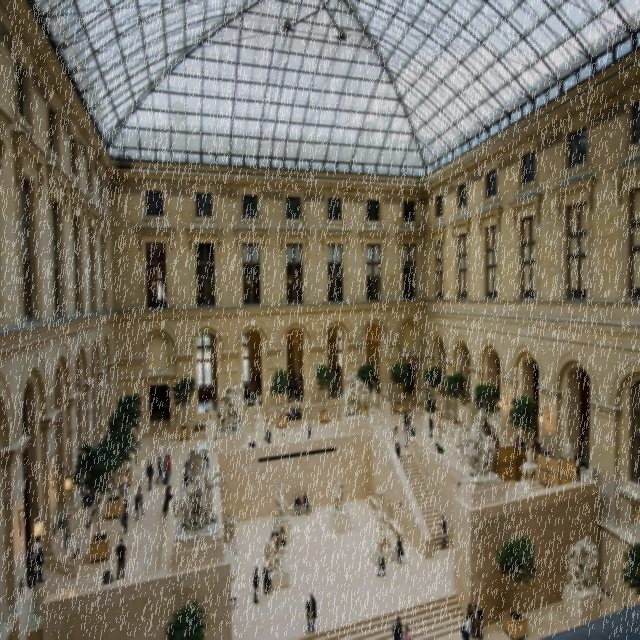pessoa: (447, 405, 499, 469), (204, 379, 262, 430), (181, 448, 215, 534), (343, 372, 389, 414), (567, 534, 599, 590), (118, 414, 140, 480), (514, 434, 546, 470), (32, 534, 46, 584), (114, 536, 128, 584), (24, 540, 36, 589), (304, 592, 318, 634), (565, 440, 582, 470), (284, 374, 304, 399), (134, 484, 146, 524), (251, 566, 261, 606), (80, 482, 96, 507), (162, 484, 174, 517), (120, 496, 130, 534), (423, 385, 437, 412), (162, 487, 174, 517), (474, 603, 484, 639), (145, 458, 155, 492), (262, 566, 272, 596), (376, 547, 386, 577), (392, 615, 404, 639), (440, 514, 448, 550), (162, 454, 170, 488), (155, 455, 164, 485), (463, 614, 473, 640), (469, 609, 476, 639), (166, 452, 172, 485), (396, 534, 402, 566), (279, 525, 286, 551), (294, 495, 302, 517), (303, 492, 310, 516), (266, 416, 272, 444), (466, 602, 474, 622), (224, 514, 232, 534), (404, 423, 410, 448), (403, 409, 409, 434), (434, 441, 444, 456), (406, 408, 412, 432), (428, 414, 434, 438), (263, 418, 269, 442), (284, 405, 292, 423), (288, 402, 296, 420), (404, 624, 412, 640), (275, 530, 280, 554), (281, 432, 290, 444), (307, 422, 313, 440), (296, 404, 302, 422), (268, 531, 276, 543), (394, 424, 398, 448), (246, 439, 256, 448), (396, 440, 400, 460), (410, 424, 416, 436), (294, 405, 298, 421)
